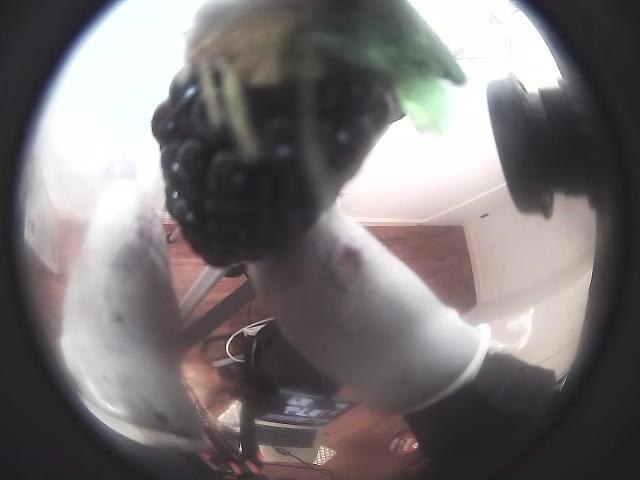berry: (152, 0, 465, 266)
gripper: (250, 206, 489, 412), (60, 179, 199, 440)
lense: (0, 0, 170, 479), (493, 0, 639, 479)
